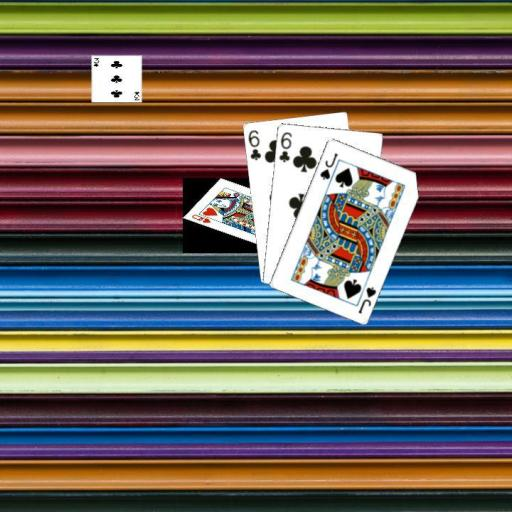6C: (245, 127, 263, 162), (275, 129, 293, 164)
JS: (317, 150, 340, 182), (355, 284, 378, 315)
